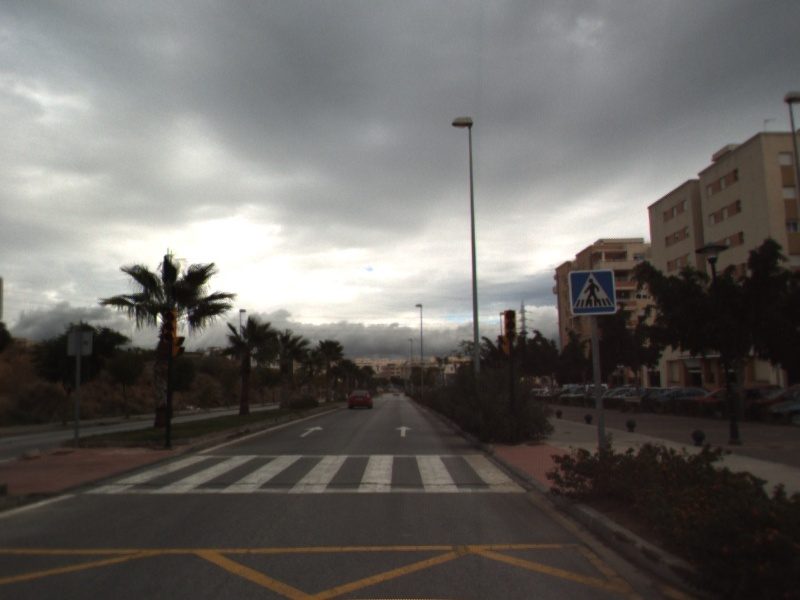STRAIGHT: (298, 423, 325, 439), (394, 424, 414, 438)
